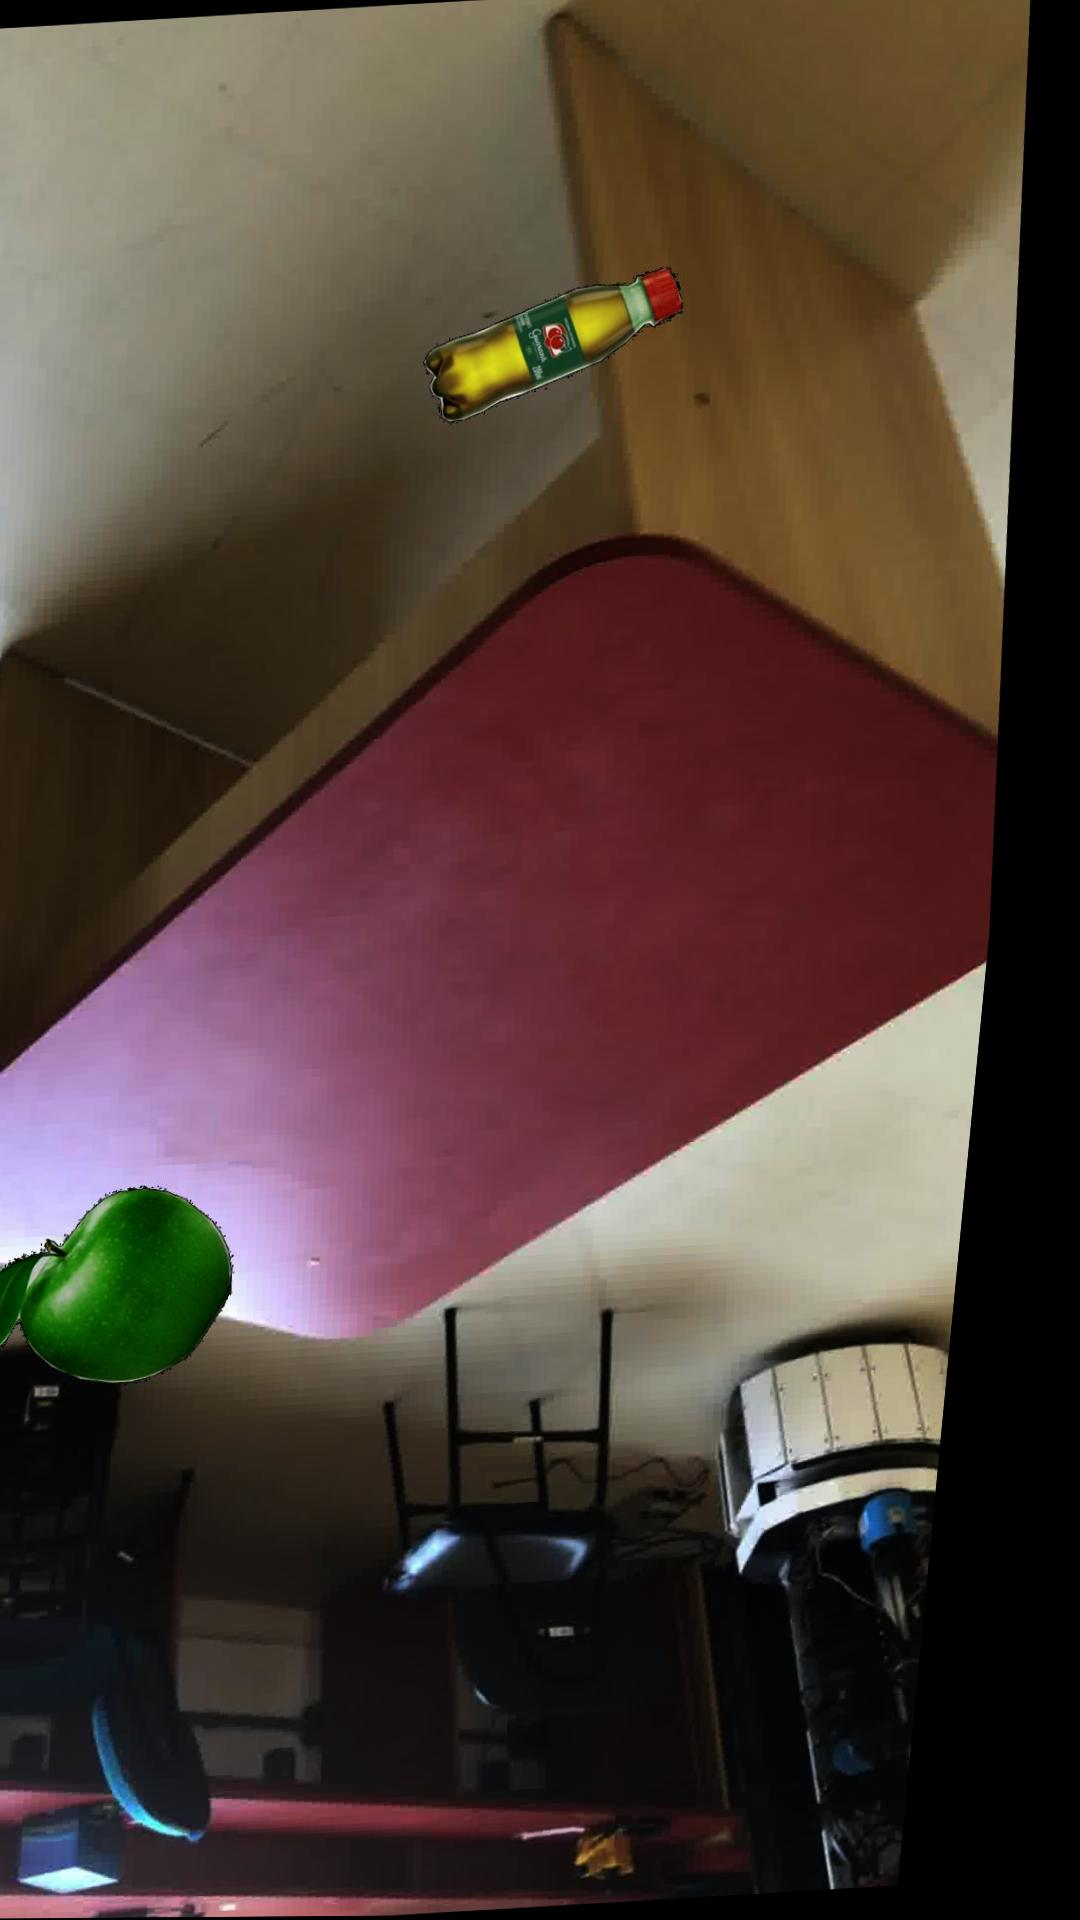green apple: (0, 1187, 256, 1385)
guarana: (427, 269, 686, 423)
